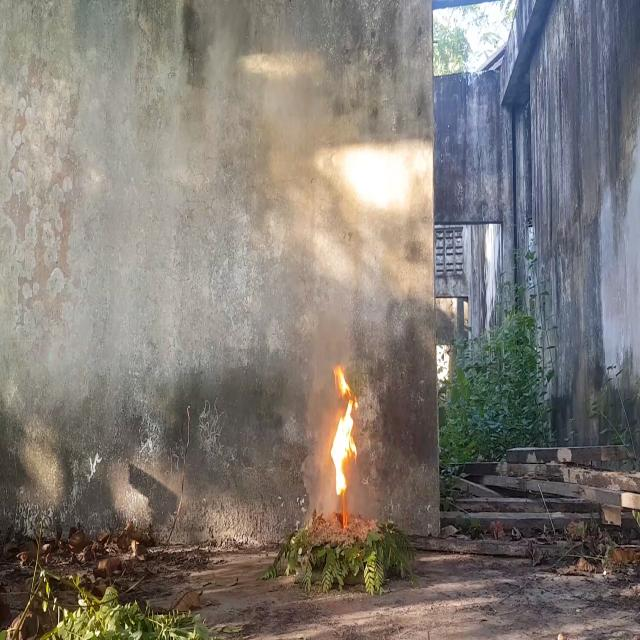fire: (330, 363, 358, 499)
smoke: (262, 75, 346, 354)
